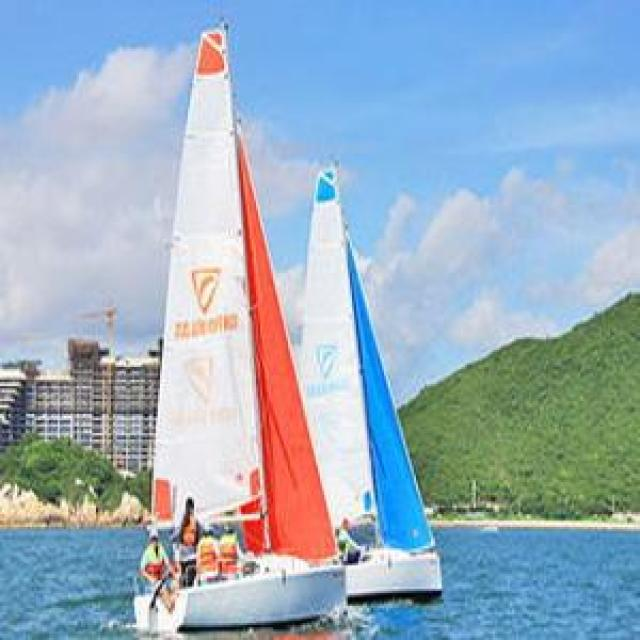sailboat: (130, 15, 338, 634), (294, 155, 448, 595)
